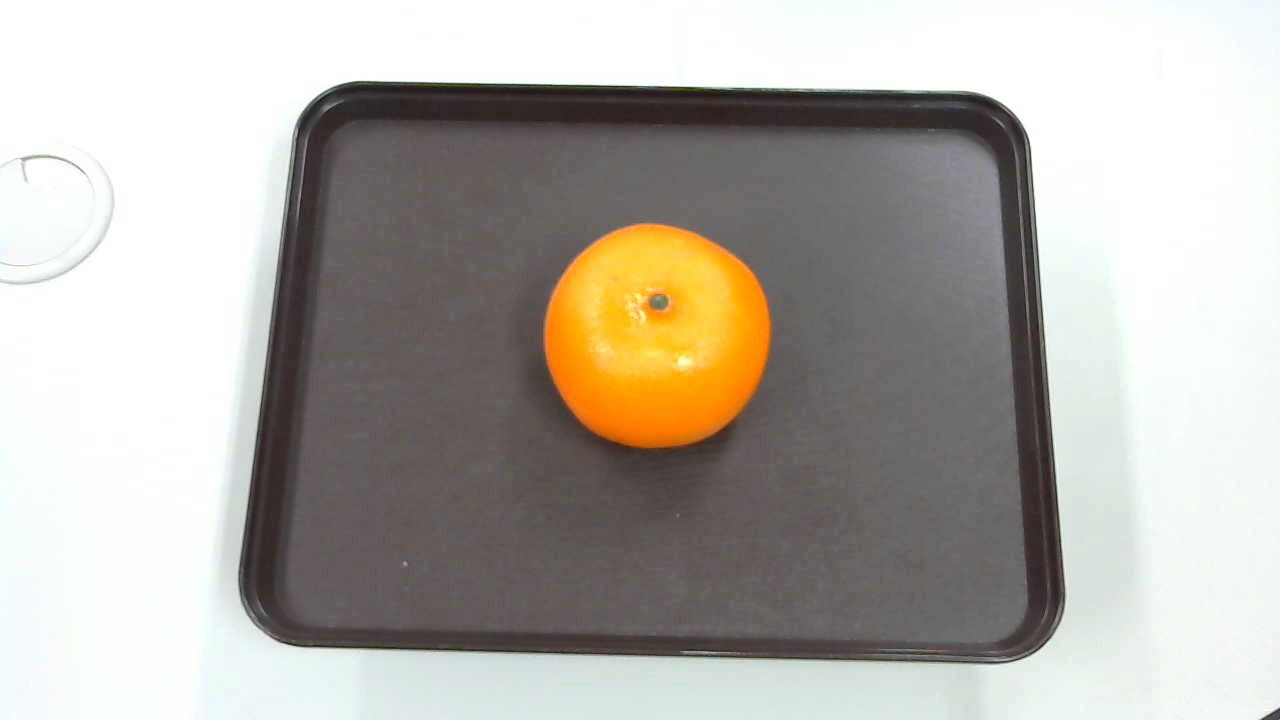orange: (540, 225, 778, 449)
